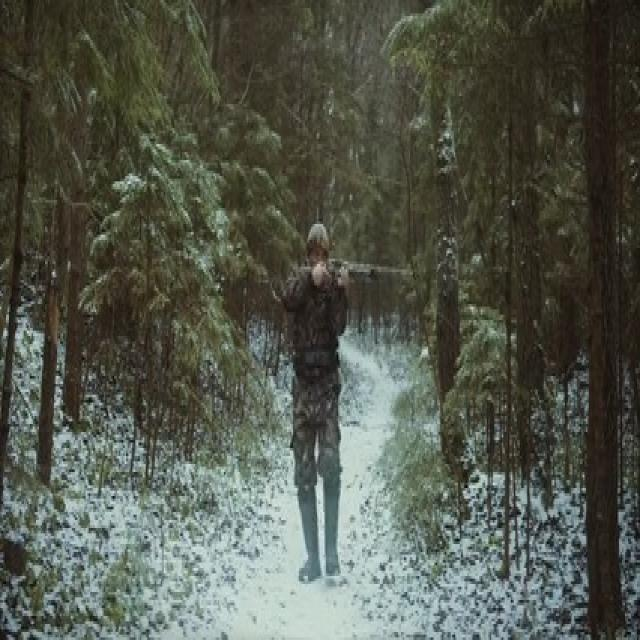Gun_Holder: (310, 256, 414, 304)
Person: (280, 220, 356, 586)
